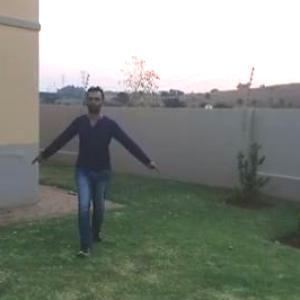land: (46, 88, 156, 228)
